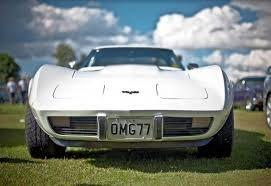Liscence Plate: (103, 117, 160, 138)
